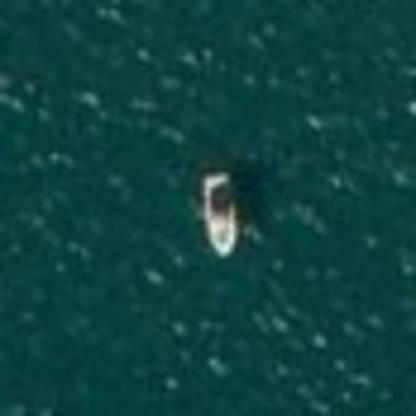ship: (192, 164, 251, 262)
